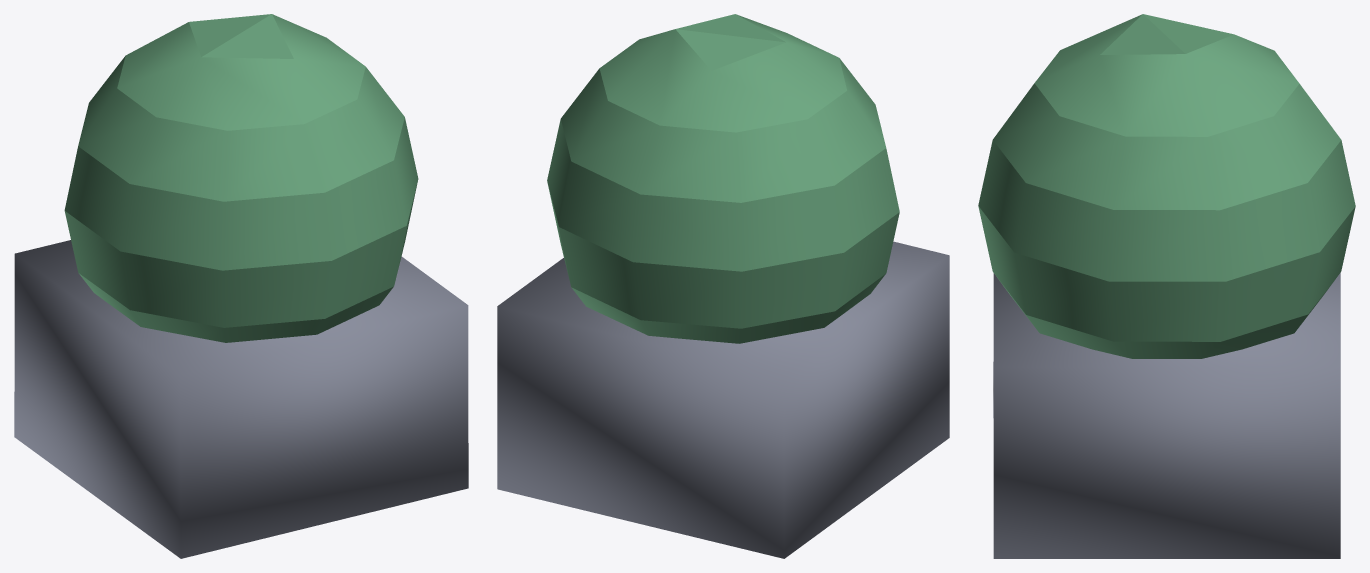
File: SM_Innenstadt_Planter_LOD2.fbx
3 views of the same model, side by side, from view 1: azimuth 30°, elevation 25°; view 2: azimuth 150°, elevation 25°; view 3: azimuth 270°, elevation 25° (orthographic). The views are drawn at different scales.
Parts seen in each view (by area): view 1: SM_Innenstadt_Planter_LOD2; view 2: SM_Innenstadt_Planter_LOD2; view 3: SM_Innenstadt_Planter_LOD2.
Boxes of the visible parts, x1,y1,x2,y2 form: SM_Innenstadt_Planter_LOD2: (14, 14, 468, 558); SM_Innenstadt_Planter_LOD2: (497, 14, 949, 558); SM_Innenstadt_Planter_LOD2: (978, 14, 1355, 558).
Bounding box in the file's own units: 1.32 × 1.84 × 1.39.
